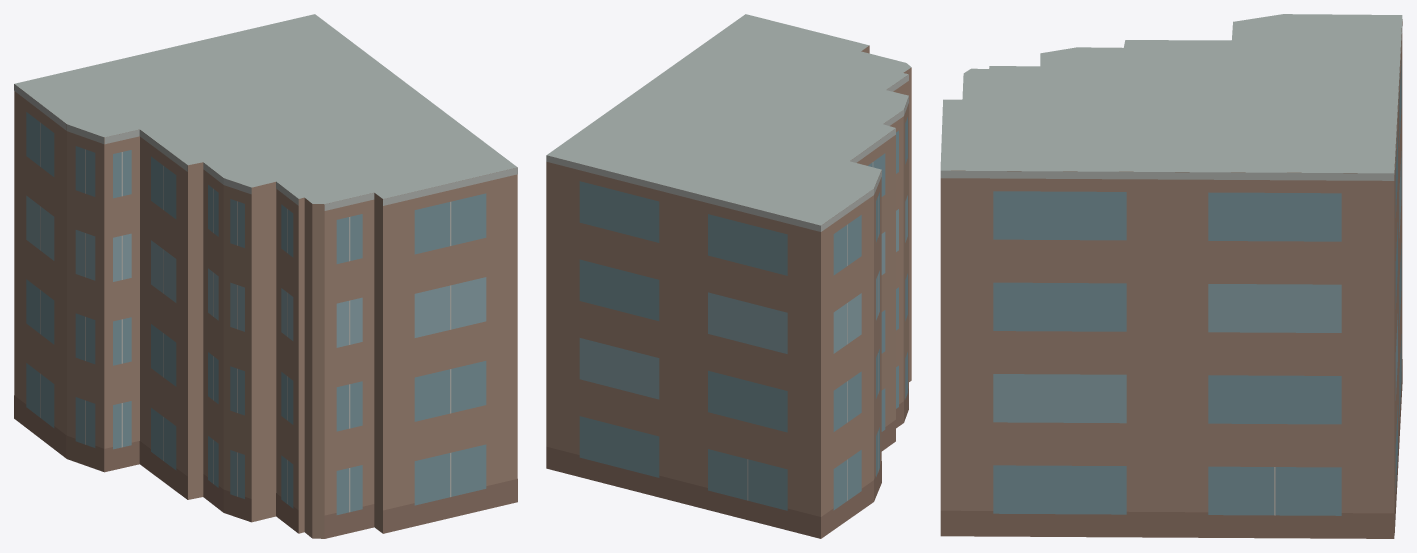
The model's file is survey-upis-32839689.glb.
3 renders of one model, left to right at view 1: azimuth 30°, elevation 25°; view 2: azimuth 150°, elevation 25°; view 3: azimuth 270°, elevation 25°, orthographic. The views are drawn at different scales.
Visible parts, largest first — view 1: survey-upis-32839689.tmp; view 2: survey-upis-32839689.tmp; view 3: survey-upis-32839689.tmp.
Part boxes in pixels (bbox=[...]): survey-upis-32839689.tmp: bbox=[14, 14, 517, 538]; survey-upis-32839689.tmp: bbox=[546, 14, 911, 538]; survey-upis-32839689.tmp: bbox=[940, 14, 1402, 538].
Bounding box in the file's own units: 11.04 × 11.8 × 13.53.
